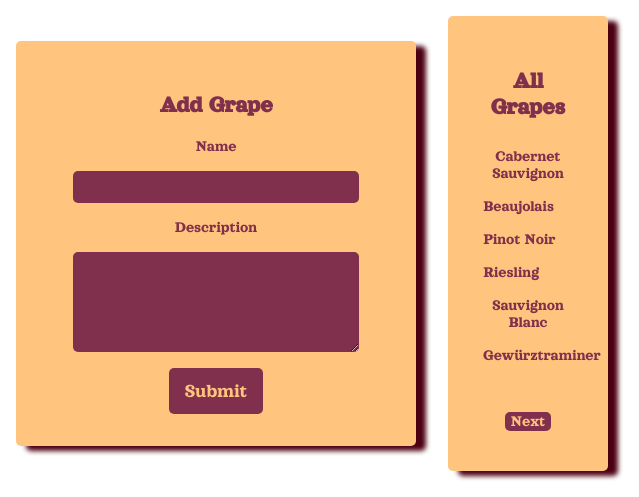
Test case: <AllGrapes /> › renders a new page on button click
The width and height of the screenshot is (639, 497).
Expected: the link "Cabernet Sauvignon" is shown, top-left (492, 148), bottom-right (564, 181)
Click the button "Next". click: (528, 421)
box: top-left (505, 412), bottom-right (551, 431)
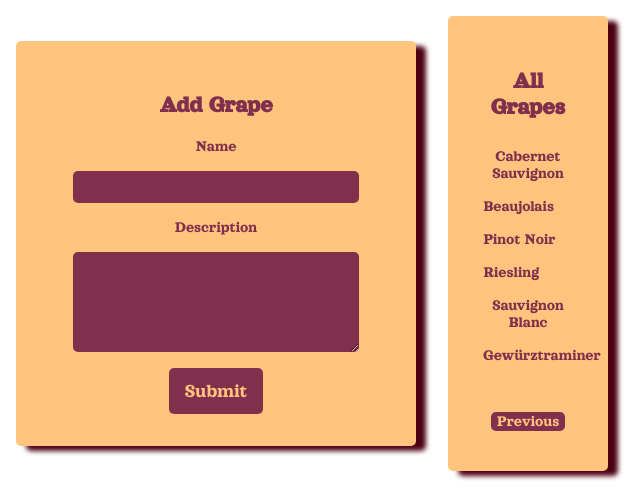
Expected: the button "Previous" is shown, top-left (491, 412), bottom-right (565, 431)
